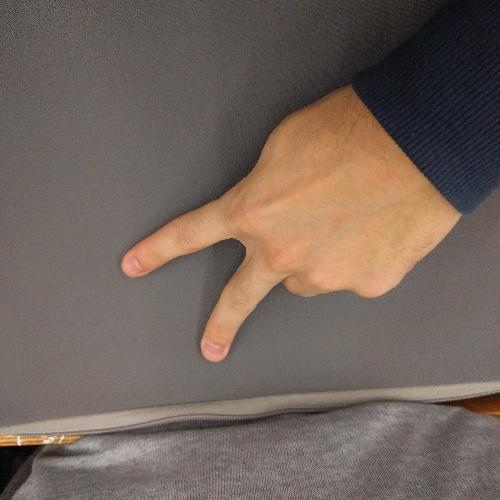scissors: (112, 78, 468, 370)
